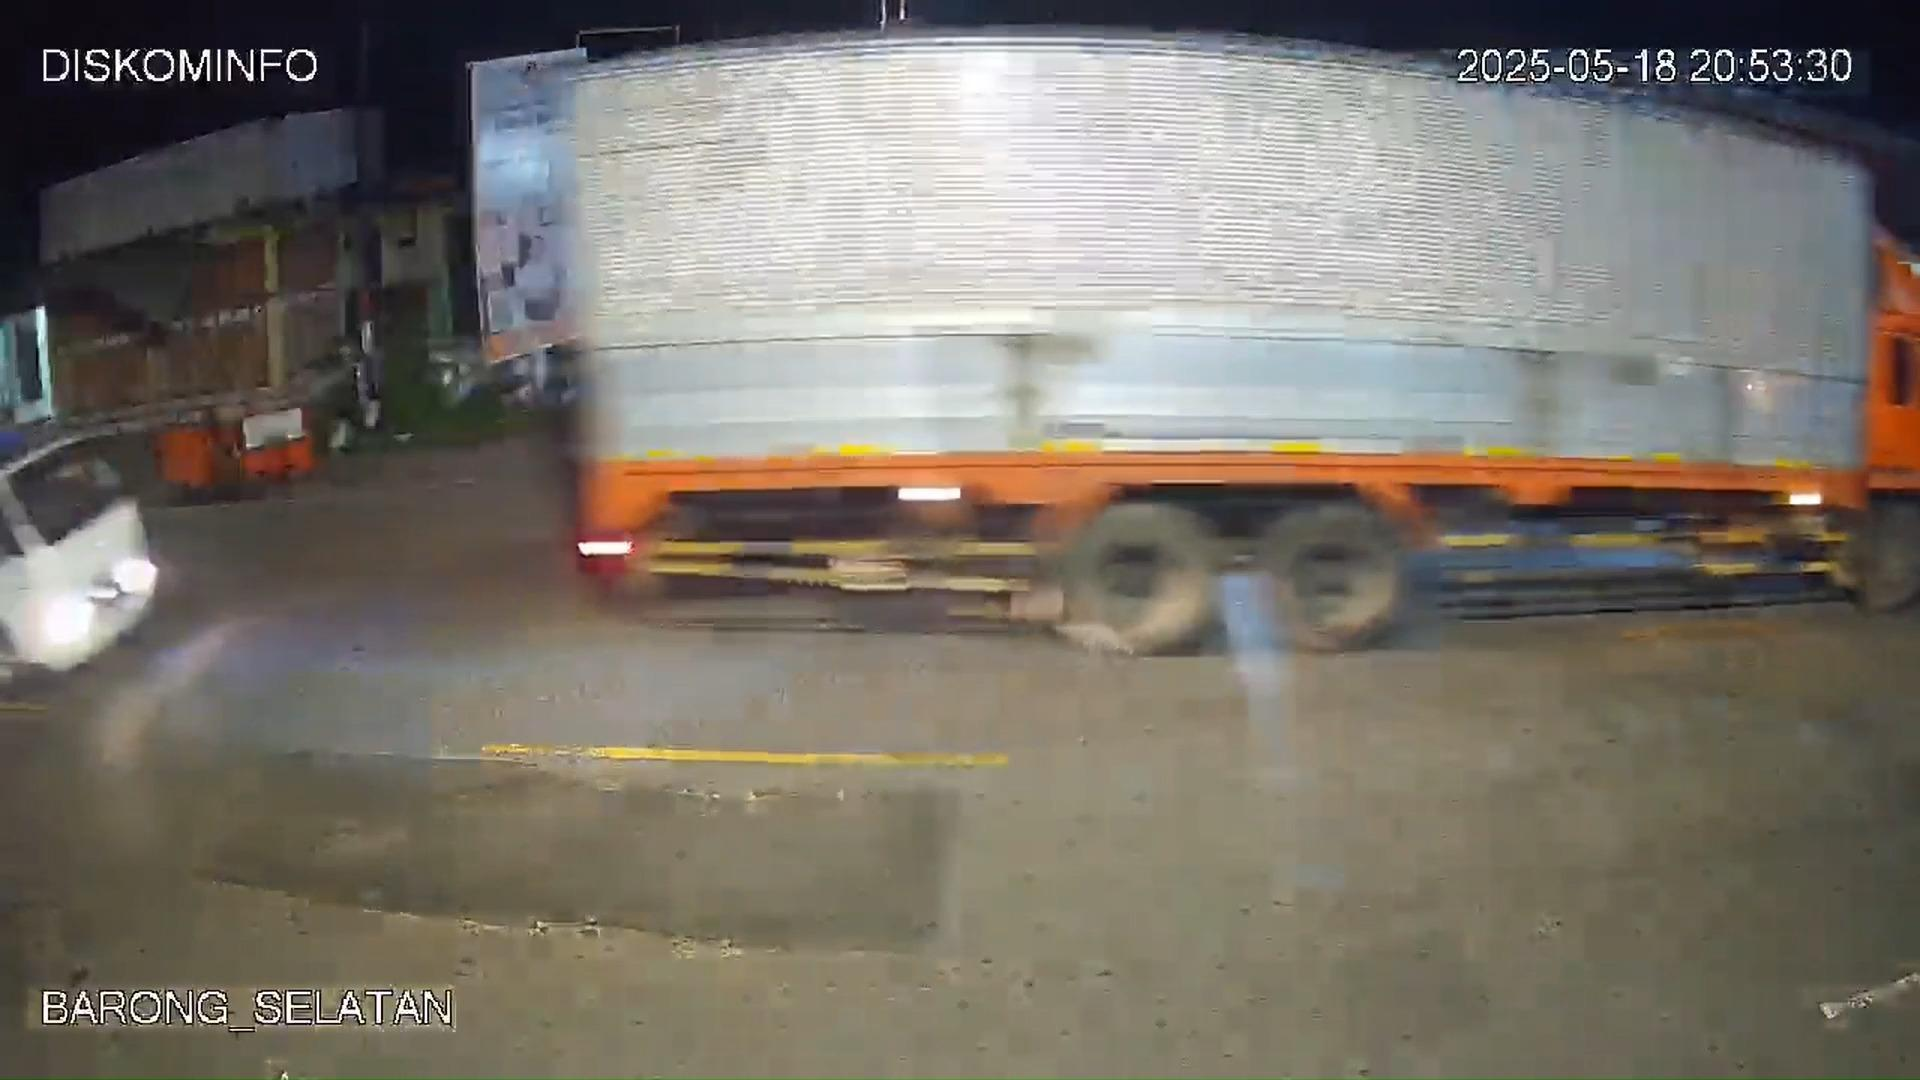Truck: (542, 29, 1919, 662)
